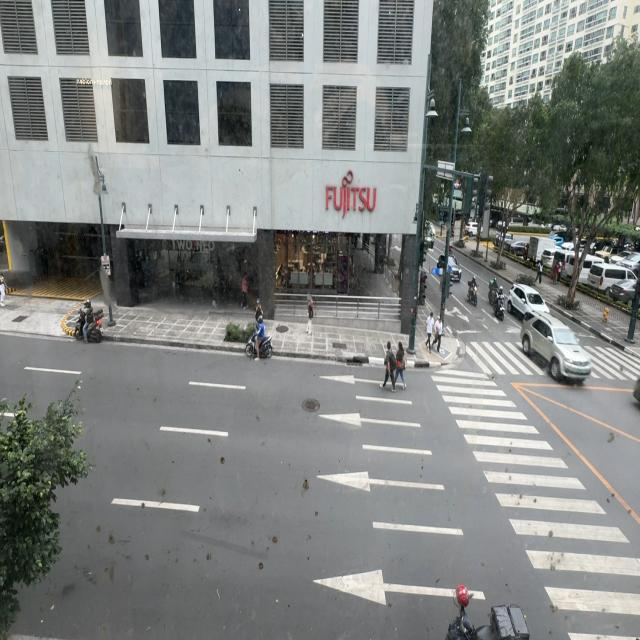jaywalking: (396, 340, 412, 392), (380, 342, 396, 390), (394, 342, 406, 382)
